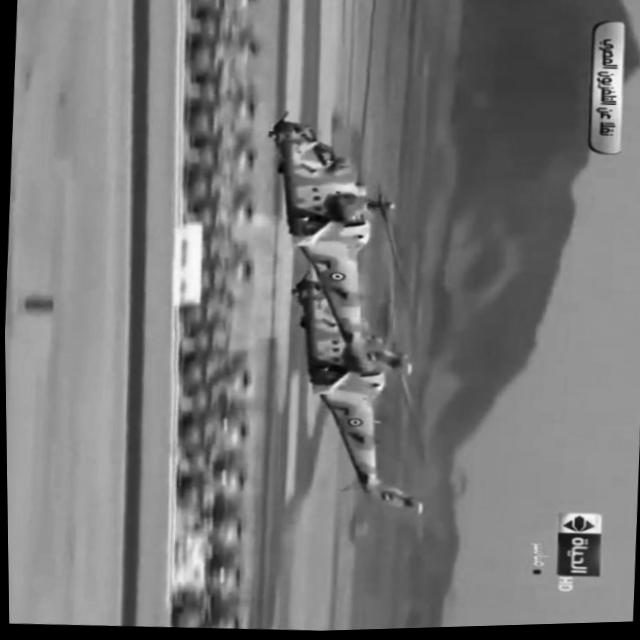helikopter: (275, 127, 419, 383)
